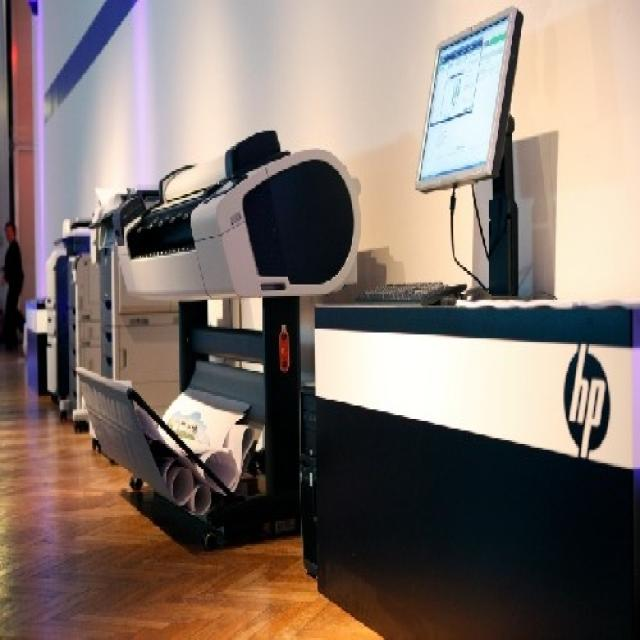HP: (562, 340, 618, 459)
